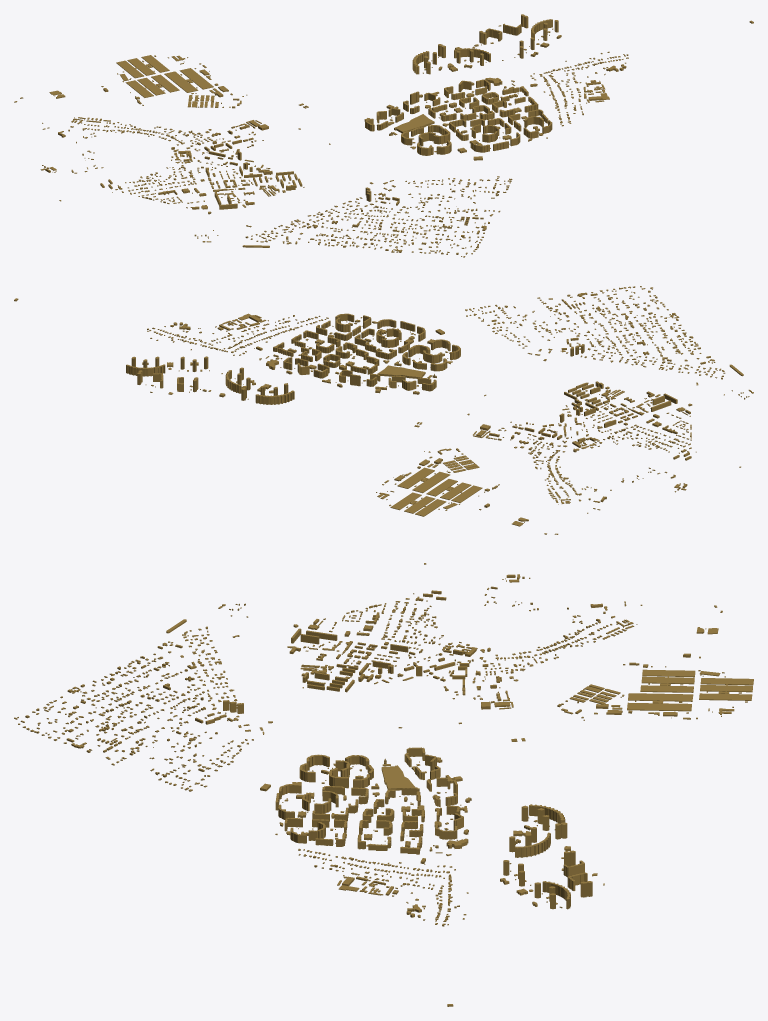
The model's file is MODEL_MAPBUILDINGS.fbx.
3 renders of one model, top to bottom at view 1: azimuth 30°, elevation 25°; view 2: azimuth 150°, elevation 25°; view 3: azimuth 270°, elevation 25°, orthographic. The views are drawn at different scales.
Parts seen in each view (by area): view 1: SM_EnvironmentBuildings; view 2: SM_EnvironmentBuildings; view 3: SM_EnvironmentBuildings.
Boxes of the visible parts, x1,y1,x2,y2 form: SM_EnvironmentBuildings: (14,14,753,257); SM_EnvironmentBuildings: (14,286,753,534); SM_EnvironmentBuildings: (14,563,753,1006).
Bounding box in the file's own units: 5722 × 84.2 × 4040.
